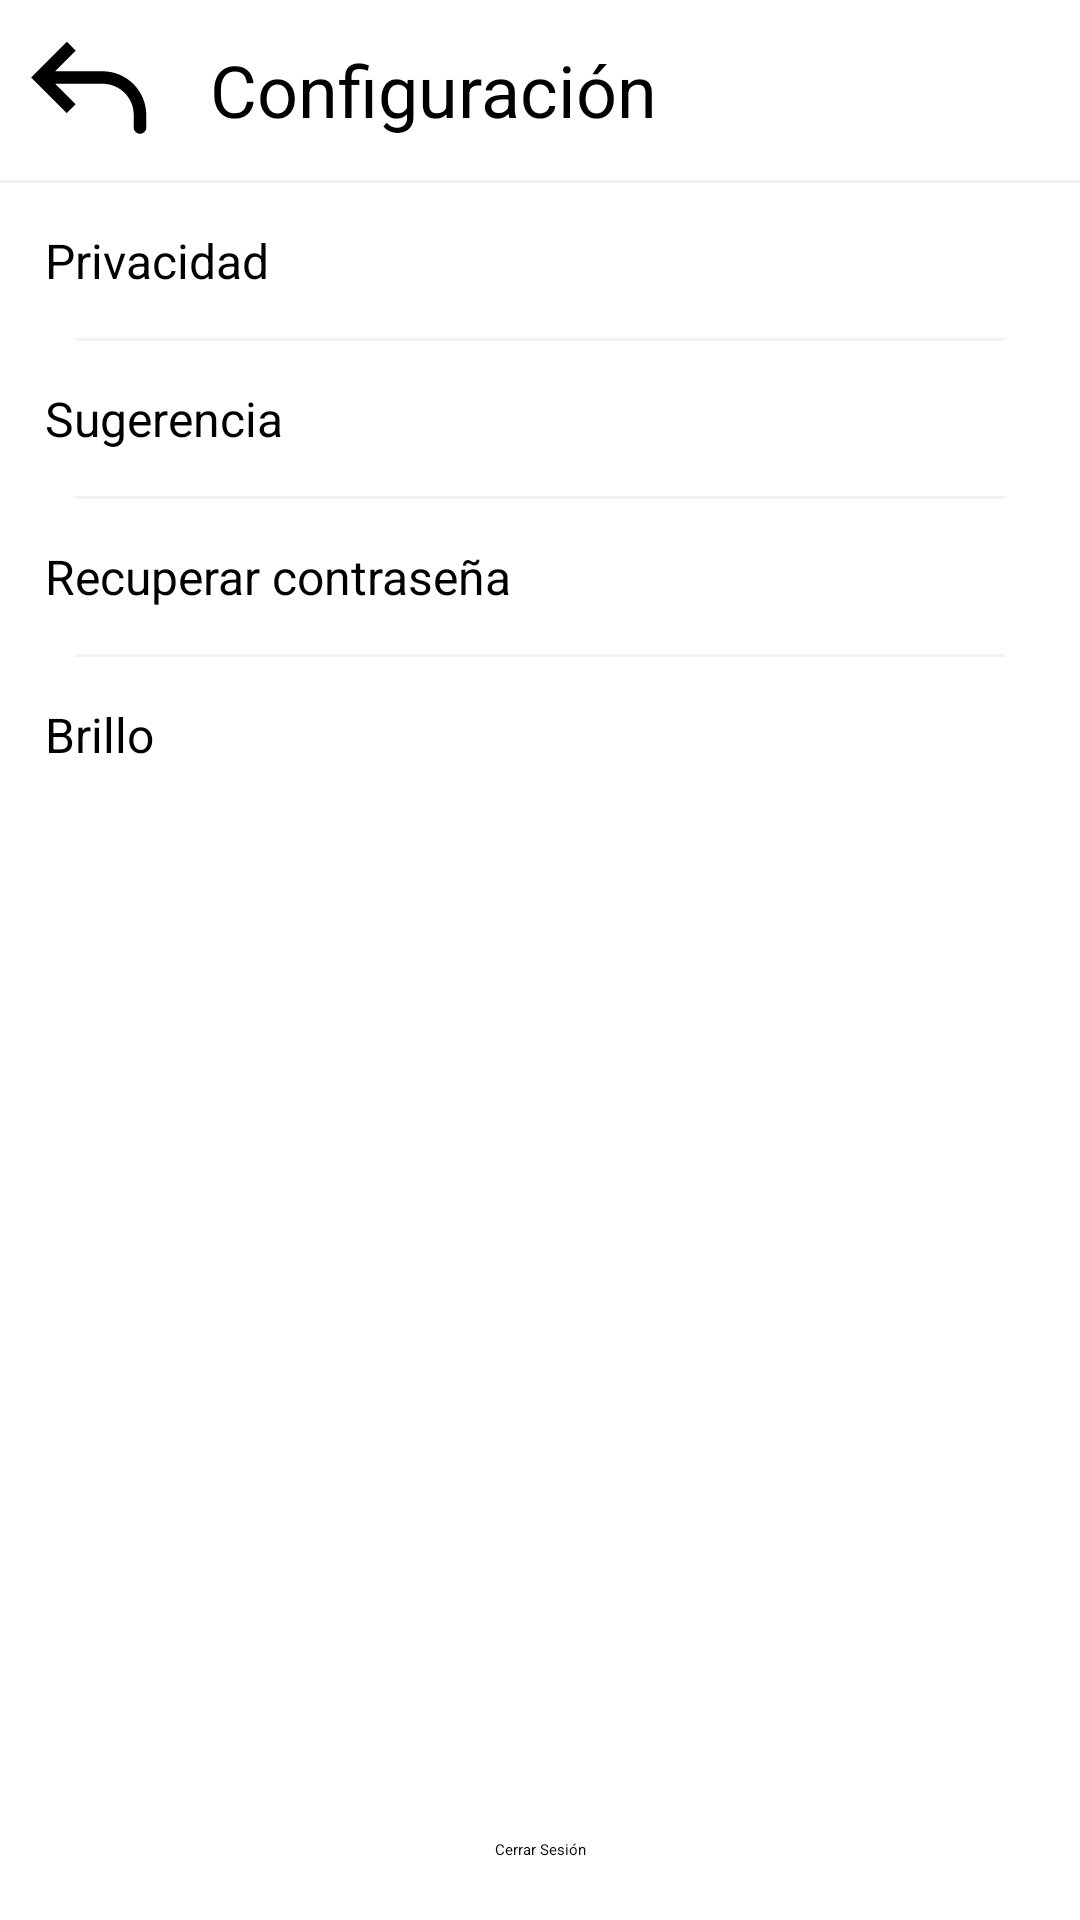

Named icons in this screenshot (1080w x 1920h) and their bounding boxes, box=[x1, y1, x2, y2]:
Botón volver: box=[31, 42, 147, 134]
